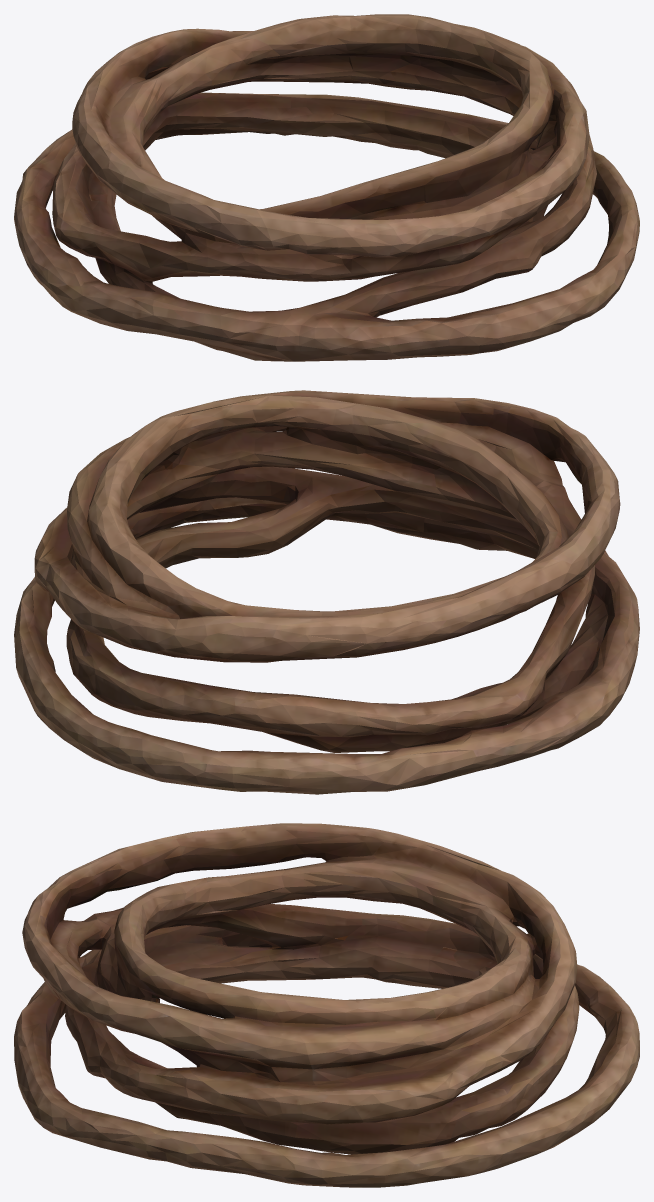
The model's file is rope_lasso.glb.
The picture shows the model from 3 angles, top to bottom: view 1: azimuth 30°, elevation 25°; view 2: azimuth 150°, elevation 25°; view 3: azimuth 270°, elevation 25°; orthographic projection. The views are drawn at different scales.
Visible parts, largest first — view 1: geometry_0; view 2: geometry_0; view 3: geometry_0.
Boxes of the visible parts, x1,y1,x2,y2 form: geometry_0: [14, 14, 639, 361]; geometry_0: [14, 390, 639, 794]; geometry_0: [14, 823, 639, 1187].
Bounding box in the file's own units: 0.4326 × 0.1352 × 0.45.
1 material, 1 textured.
